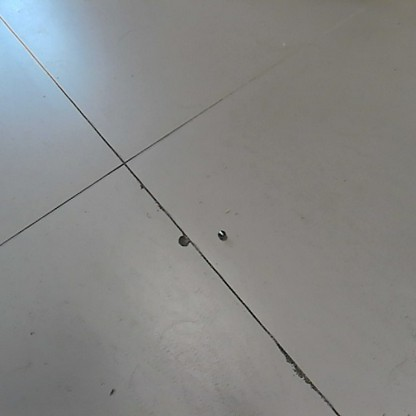ironball: (215, 227, 226, 241)
